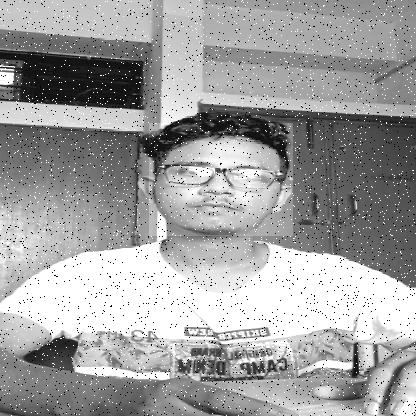Normal: (149, 123, 293, 236)
